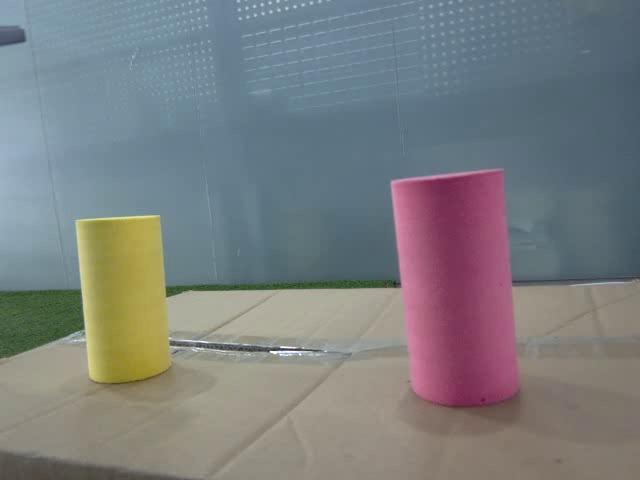red_cylinder: (390, 174, 525, 406)
yellow_cylinder: (76, 215, 176, 383)
